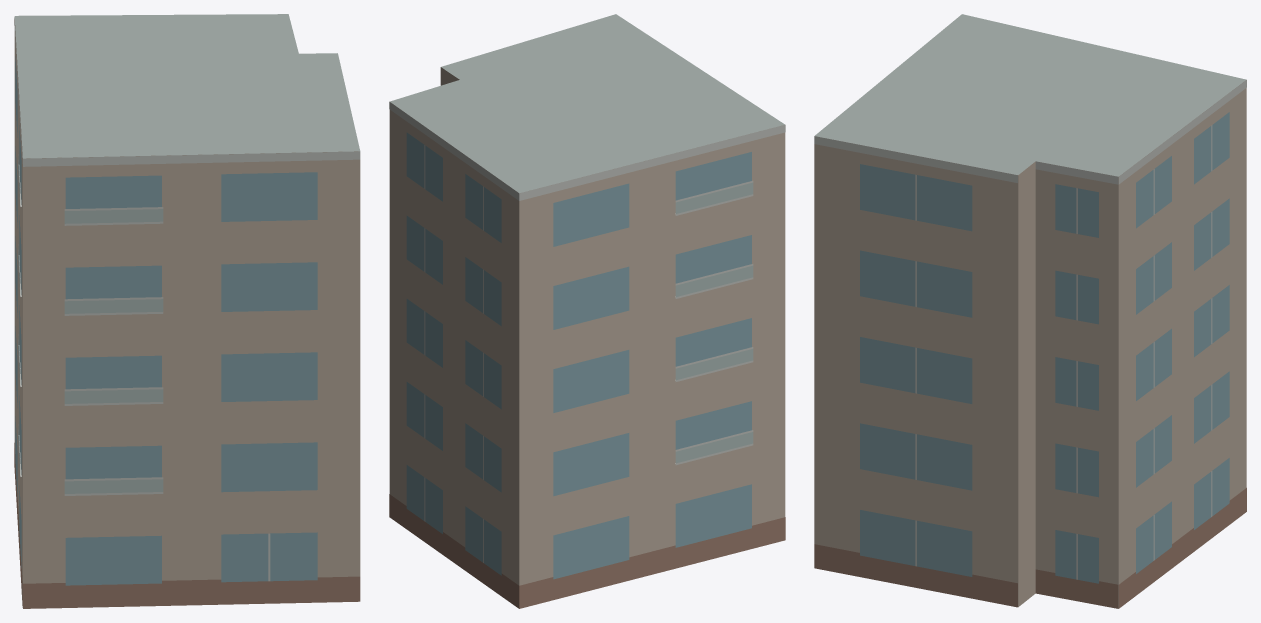
File: survey-upis-32959318.glb
3 renders of one model, left to right at view 1: azimuth 30°, elevation 25°; view 2: azimuth 150°, elevation 25°; view 3: azimuth 270°, elevation 25°, orthographic. The views are drawn at different scales.
Parts seen in each view (by area): view 1: survey-upis-32959318.tmp; view 2: survey-upis-32959318.tmp; view 3: survey-upis-32959318.tmp.
Boxes of the visible parts, x1=… form: survey-upis-32959318.tmp: x1=14, y1=14, x2=360, y2=608; survey-upis-32959318.tmp: x1=389, y1=14, x2=785, y2=608; survey-upis-32959318.tmp: x1=814, y1=14, x2=1246, y2=608.
Bounding box in the file's own units: 10.63 × 13.15 × 11.93.
